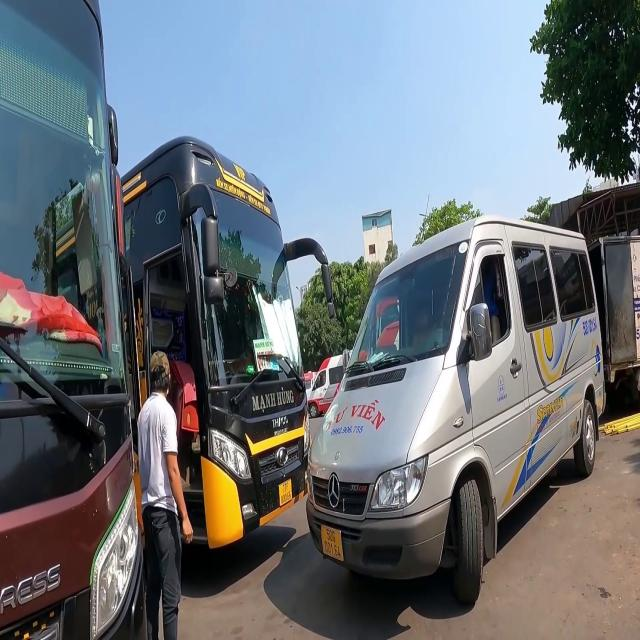bien_vang: (319, 522, 345, 566), (278, 477, 293, 509)
